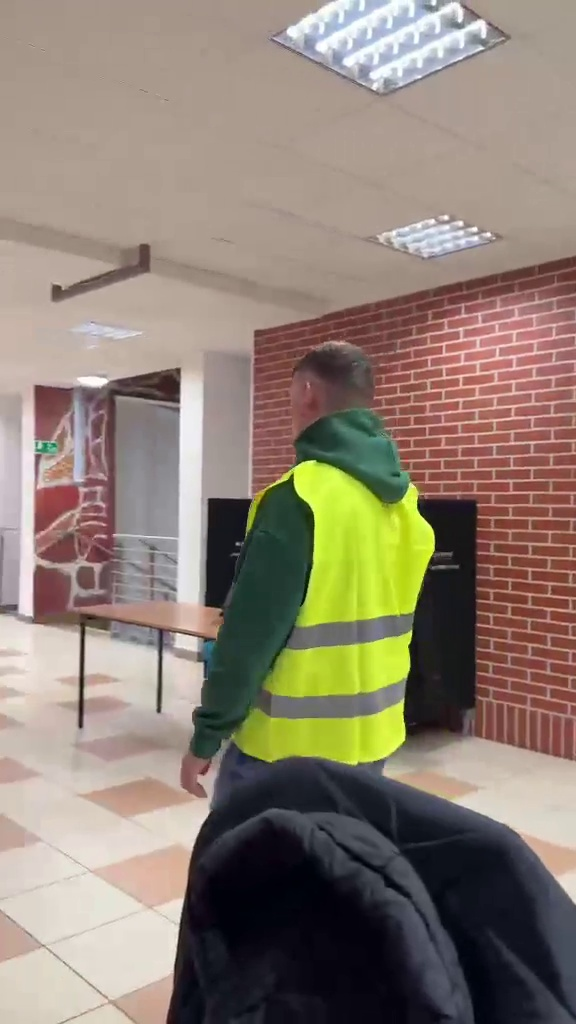vest: (180, 337, 423, 775)
